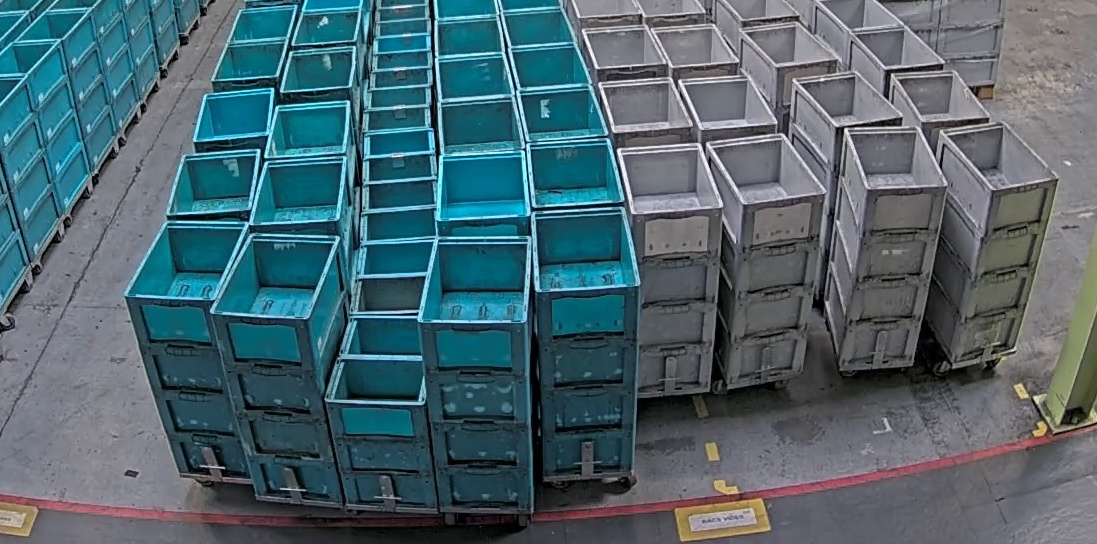4G: (925, 118, 1060, 363), (703, 133, 828, 386), (822, 126, 948, 368), (615, 142, 725, 395)
B4: (210, 230, 351, 506), (416, 234, 537, 511), (122, 221, 251, 480), (528, 207, 641, 478)
B8: (323, 314, 440, 510)
